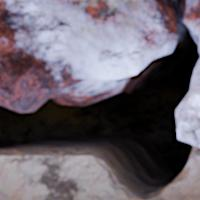broken_brick: (0, 0, 161, 110), (177, 62, 199, 148), (185, 0, 199, 34)
crack: (0, 0, 199, 199)
